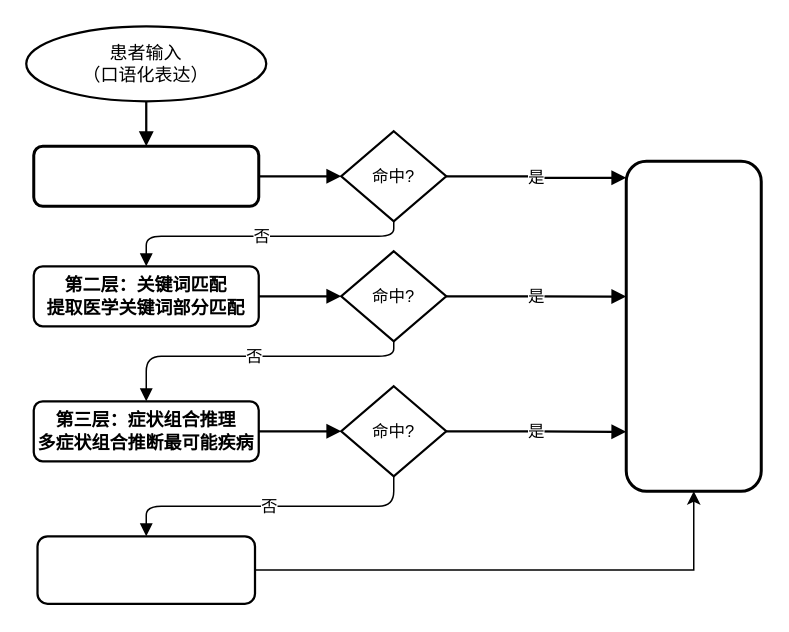
Some shapes in this 789 by 632 pixel diagram are drawn without their labels. The centre of each missing label's shape, as x and y in pixels:
标准化疾病名 → 知识路由层: the point at 693,325
第一层：精确匹配 口语映射表（154条）: the point at 146,175
降级处理 症状级别推荐 标记低置信度: the point at 145,569
